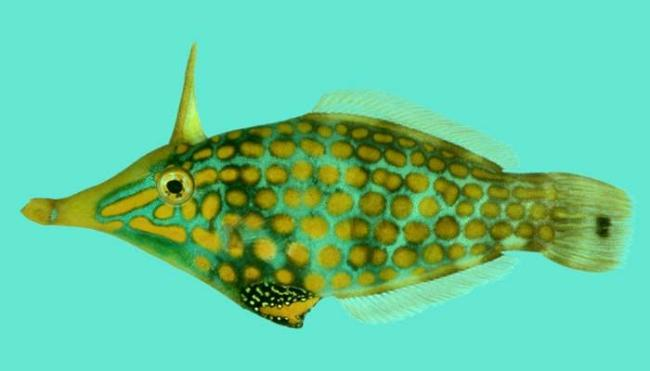fish: (19, 42, 634, 329)
